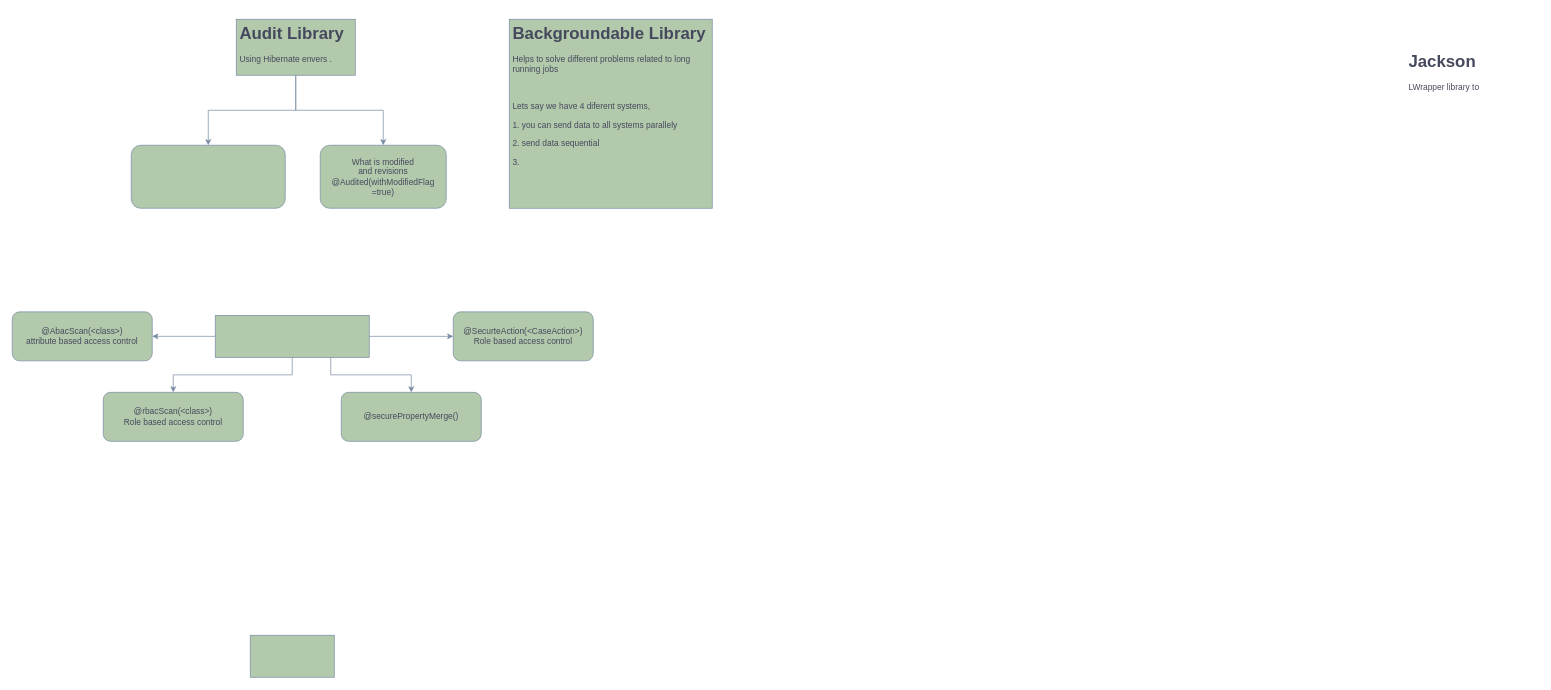
Image size: 1551x690. Some labels were removed from this diagram. Each missing label, with the box of its shape:
CACHE LIb: (250, 635, 334, 677)
Security Library .: (215, 315, 369, 357)
Who created and When created @EntityListener( AuditingEntityListener.class): (131, 145, 285, 208)
